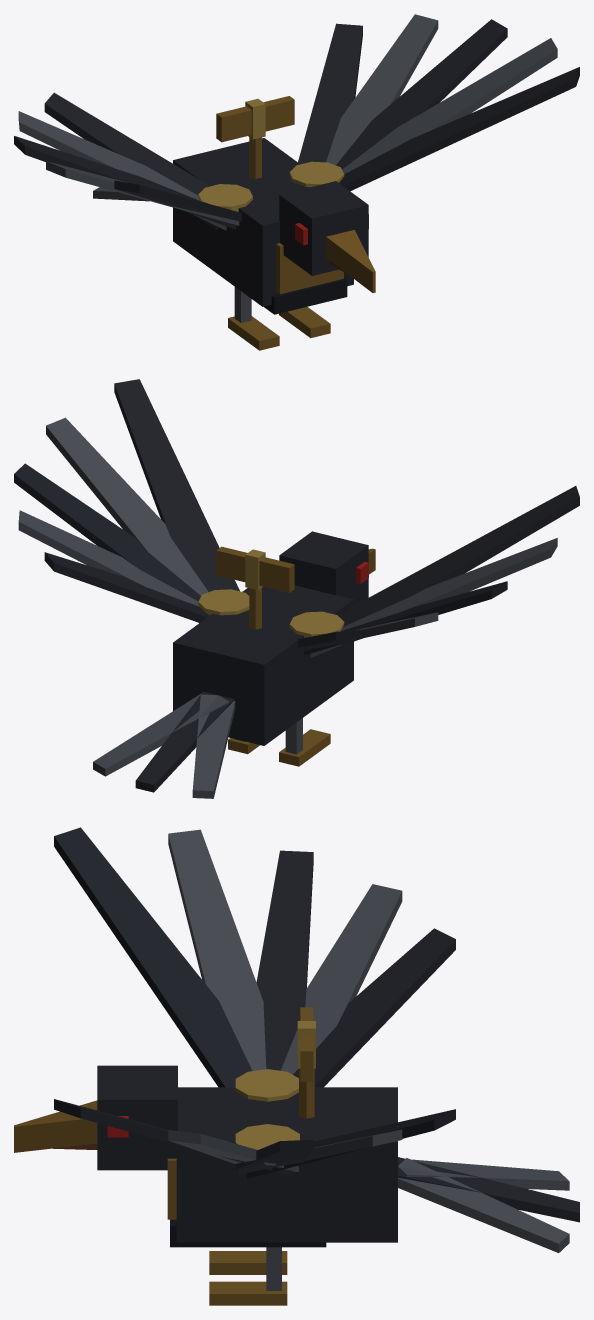
Rendered from ClockworkCrow_uv.glb.
3 views of the same model, one above another, from view 1: azimuth 30°, elevation 25°; view 2: azimuth 150°, elevation 25°; view 3: azimuth 270°, elevation 25° (orthographic). The views are drawn at different scales.
Parts seen in each view (by area): view 1: ClockworkCrow; view 2: ClockworkCrow; view 3: ClockworkCrow.
Part boxes in pixels (<box>): ClockworkCrow: <box>14,14,579,350</box>; ClockworkCrow: <box>14,379,579,798</box>; ClockworkCrow: <box>14,827,579,1305</box>.
Bounding box in the file's own units: 5.53 × 2.69 × 4.35.
1 material, 1 textured.
